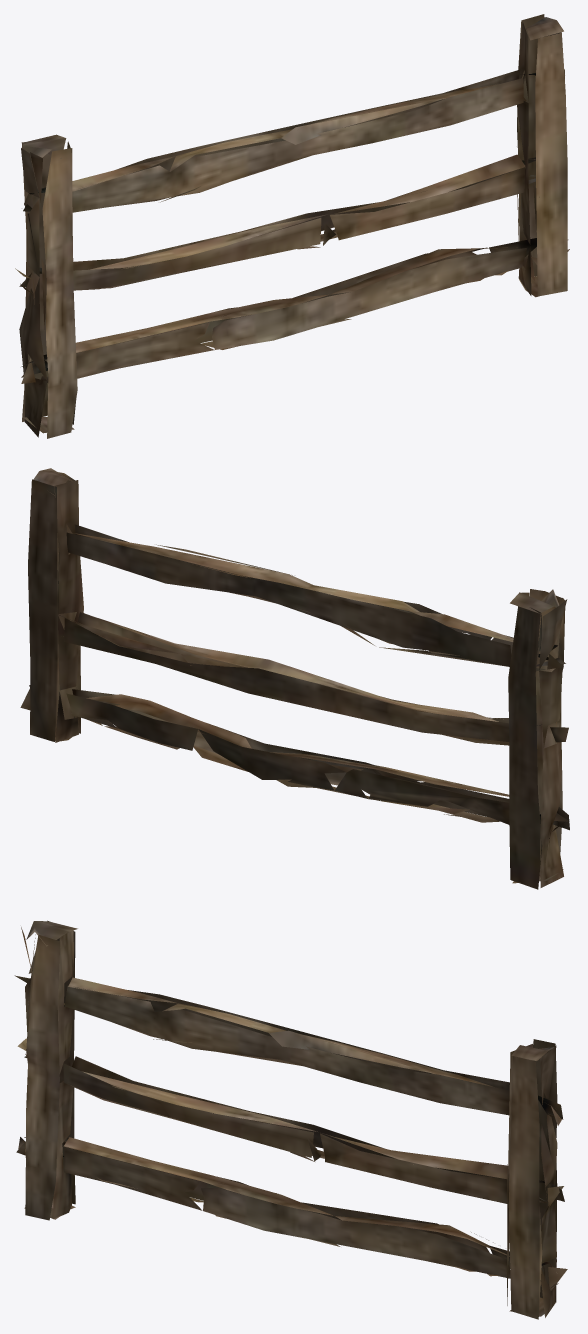
Rendered from wald_zaun_lo.glb.
The picture shows the model from 3 angles, top to bottom: view 1: azimuth 30°, elevation 25°; view 2: azimuth 150°, elevation 25°; view 3: azimuth 330°, elevation 25°; orthographic projection.
Visible parts, largest first — view 1: Prop; view 2: Prop; view 3: Prop.
Boxes of the visible parts, x1,y1,x2,y2 form: Prop: [15, 14, 569, 438]; Prop: [20, 468, 569, 889]; Prop: [14, 920, 567, 1319].
Size of the model in its own units: 2.01 by 1 by 0.1702.
1 material, 1 textured.
